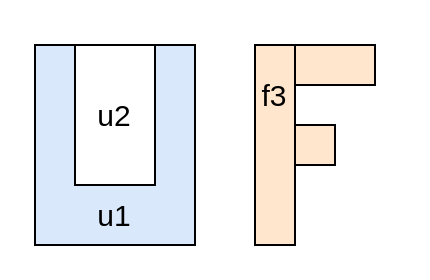
The diagram is 430 pixels wide and 280 high, and some of its shapes have lost their labels. The centre of each missing label's shape, as x and y in pixels:
"f1" belongs at point 314,144.
"f2" belongs at point 334,64.
